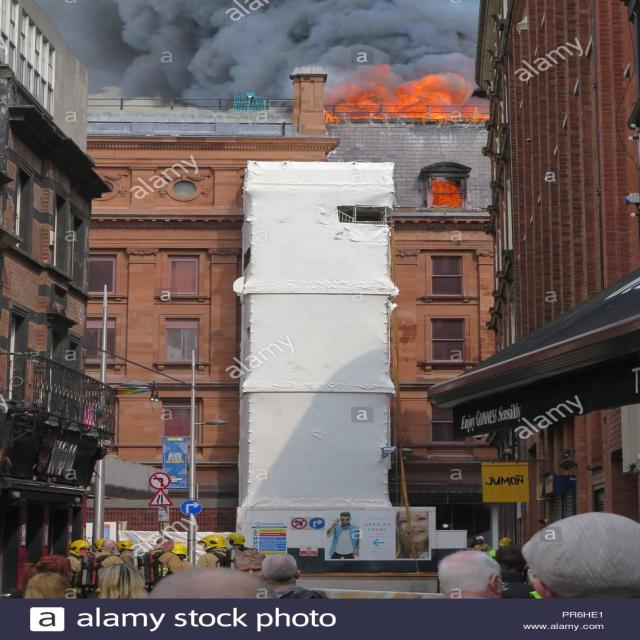Fire: (323, 70, 490, 124)
